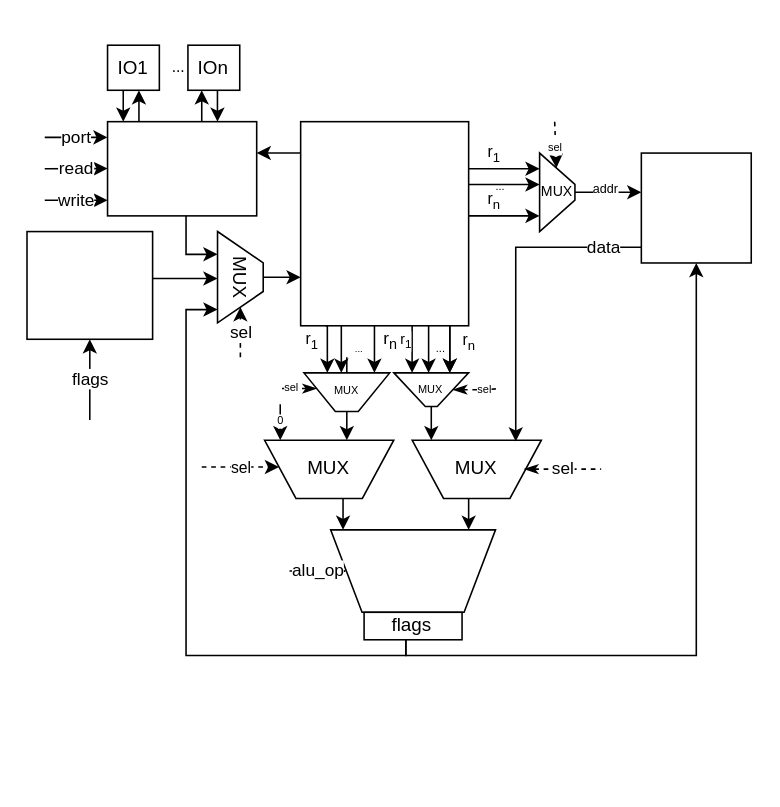
This 780x807 diagram has some shape labels left out. Each missing label, with the box of its shape:
ALU: (329, 528, 495, 612)
CU: (25, 230, 153, 339)
DataMem: (640, 152, 751, 263)
IOC: (106, 120, 257, 216)
Registers: (299, 120, 469, 326)
